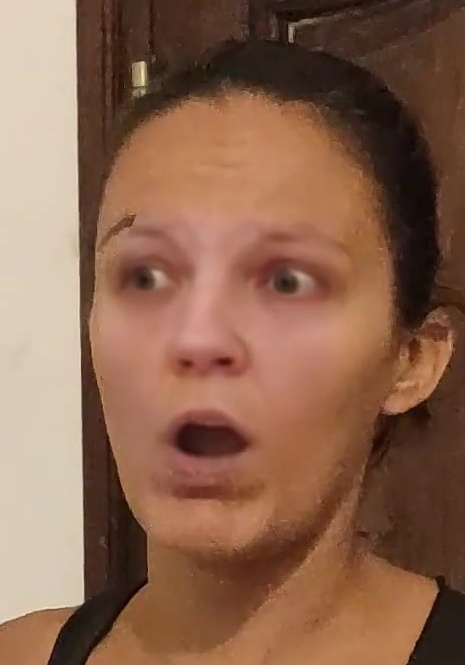eb_f: (90, 204, 363, 318)
